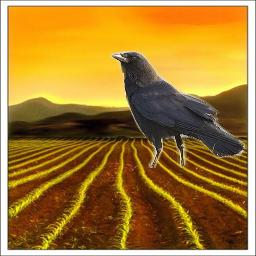Crow: (110, 51, 245, 168)
